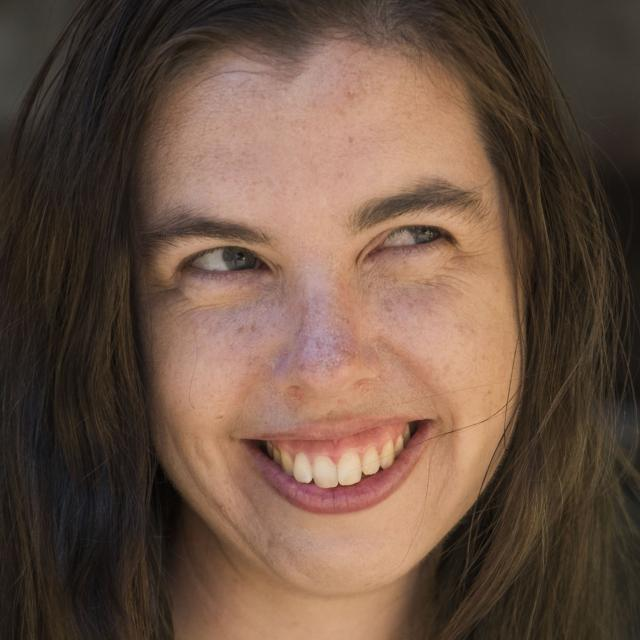Normal: (133, 46, 523, 593)
